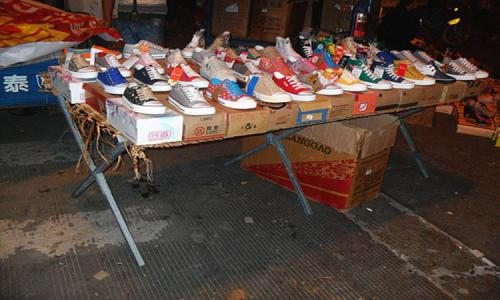vendors: (40, 25, 491, 268)
